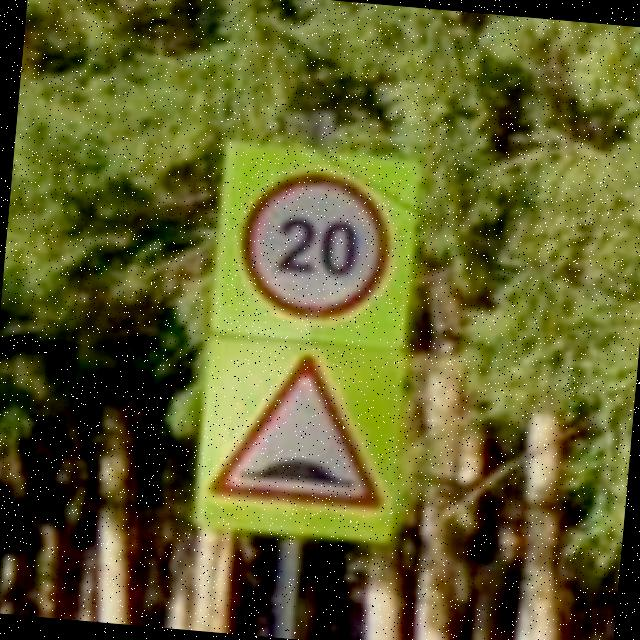Ograniczenie predkosci do 20: (230, 162, 402, 328)
